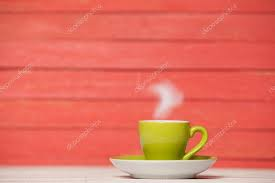cup: (133, 115, 210, 161)
